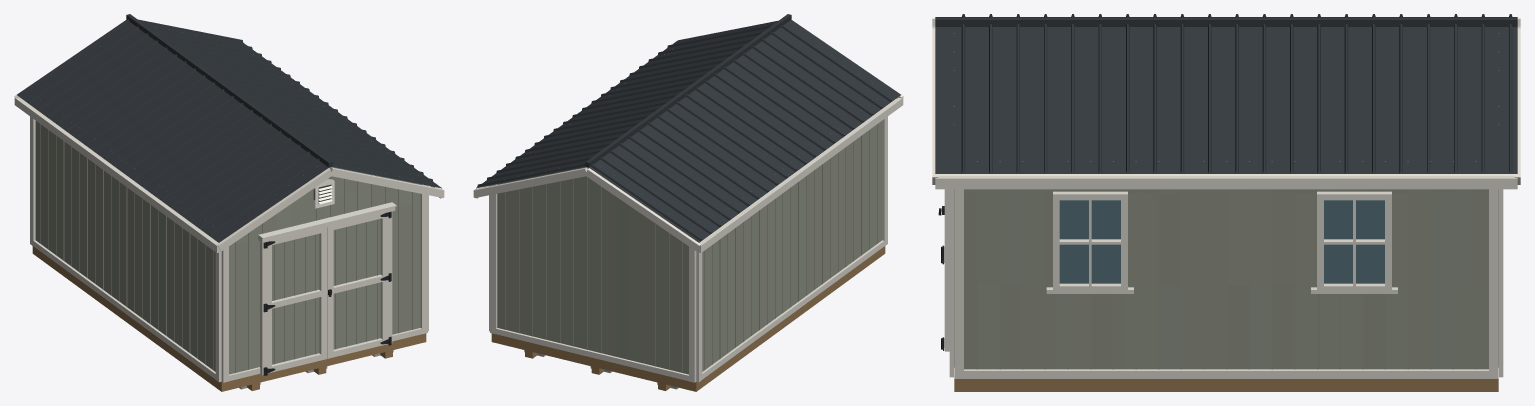
File: 02-classic-utility.glb
3 renders of one model, left to right at view 1: azimuth 30°, elevation 25°; view 2: azimuth 150°, elevation 25°; view 3: azimuth 270°, elevation 25°, orthographic. The views are drawn at different scales.
Visible parts, largest first — view 1: Main roof, left wall, front wall double, front wall, Floor platform and skids, front wall vent; view 2: Main roof, rear wall, left wall, Floor platform and skids; view 3: Main roof, right wall, right wall window, Floor platform and skids, front wall, rear wall, front wall double.
Part boxes in pixels (x1,y1,x2,y2): Main roof: (14,14,444,252); left wall: (30,99,221,382); front wall double: (258,202,396,375); front wall: (221,167,427,382); Floor platform and skids: (32,246,426,391); front wall vent: (315,179,334,208); Main roof: (473,14,903,252); rear wall: (490,167,696,382); left wall: (696,99,887,382); Floor platform and skids: (491,246,885,391); Main roof: (932,14,1520,189); right wall: (954,161,1498,378); right wall window: (1046,191,1397,293); Floor platform and skids: (954,379,1498,391); front wall: (949,33,954,377); rear wall: (1498,33,1503,377); front wall double: (938,189,949,351).
Size of the model in its own units: 3.39 by 3.1 by 5.27.
